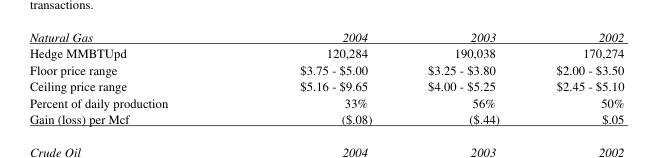table: (28, 28, 623, 126)
table column: (28, 28, 233, 126), (233, 28, 399, 126), (399, 28, 527, 126), (527, 28, 623, 126)
table column header: (28, 28, 623, 44)
table row: (28, 60, 623, 77), (28, 109, 623, 126), (28, 28, 623, 44), (28, 44, 623, 60), (28, 77, 623, 93), (28, 93, 623, 109)
